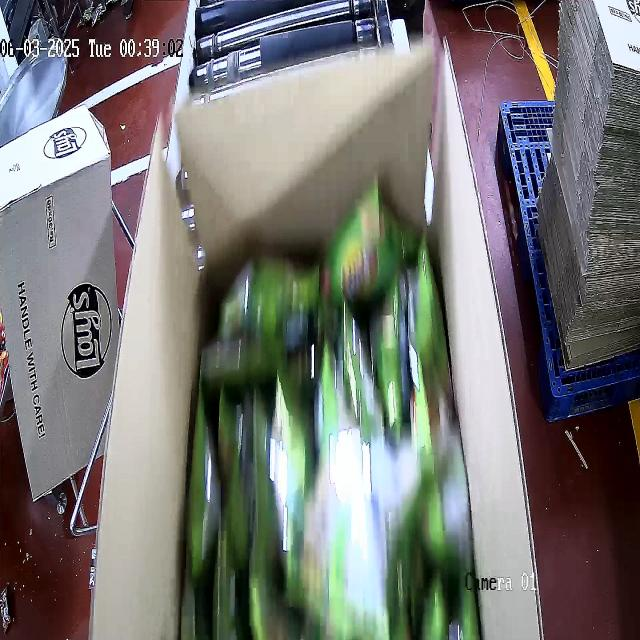YOGURT_HERB: (180, 177, 480, 638)
